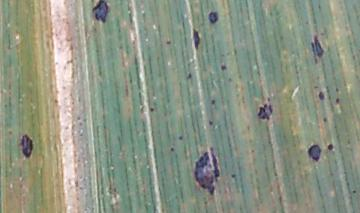tarspot: (194, 147, 219, 194), (19, 134, 34, 158), (92, 1, 109, 22), (311, 36, 323, 61), (258, 103, 272, 120), (307, 146, 321, 160), (192, 28, 200, 49), (208, 10, 219, 23), (317, 89, 325, 101), (219, 64, 228, 72), (165, 38, 172, 46), (207, 119, 214, 126), (178, 134, 184, 142), (187, 72, 193, 80), (328, 143, 334, 151), (323, 115, 328, 124), (169, 145, 175, 152), (210, 99, 216, 106), (334, 98, 341, 104), (231, 173, 237, 179), (148, 108, 155, 113), (352, 188, 357, 195), (335, 87, 339, 93)
